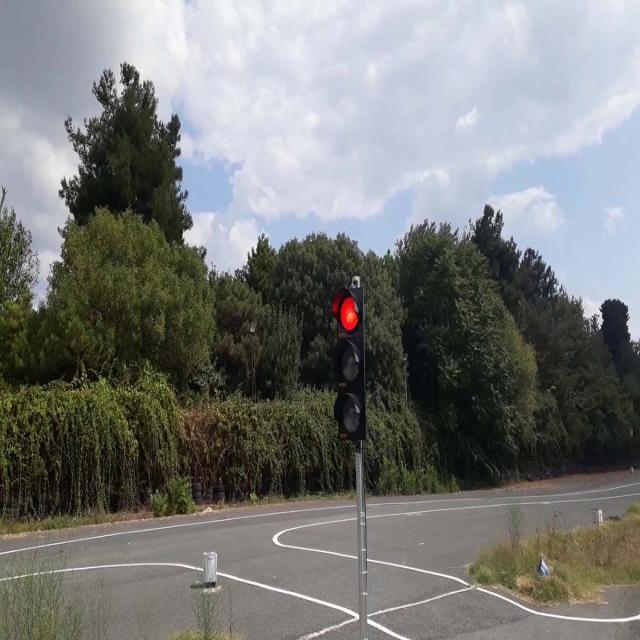kirmizi: (333, 286, 367, 444)
